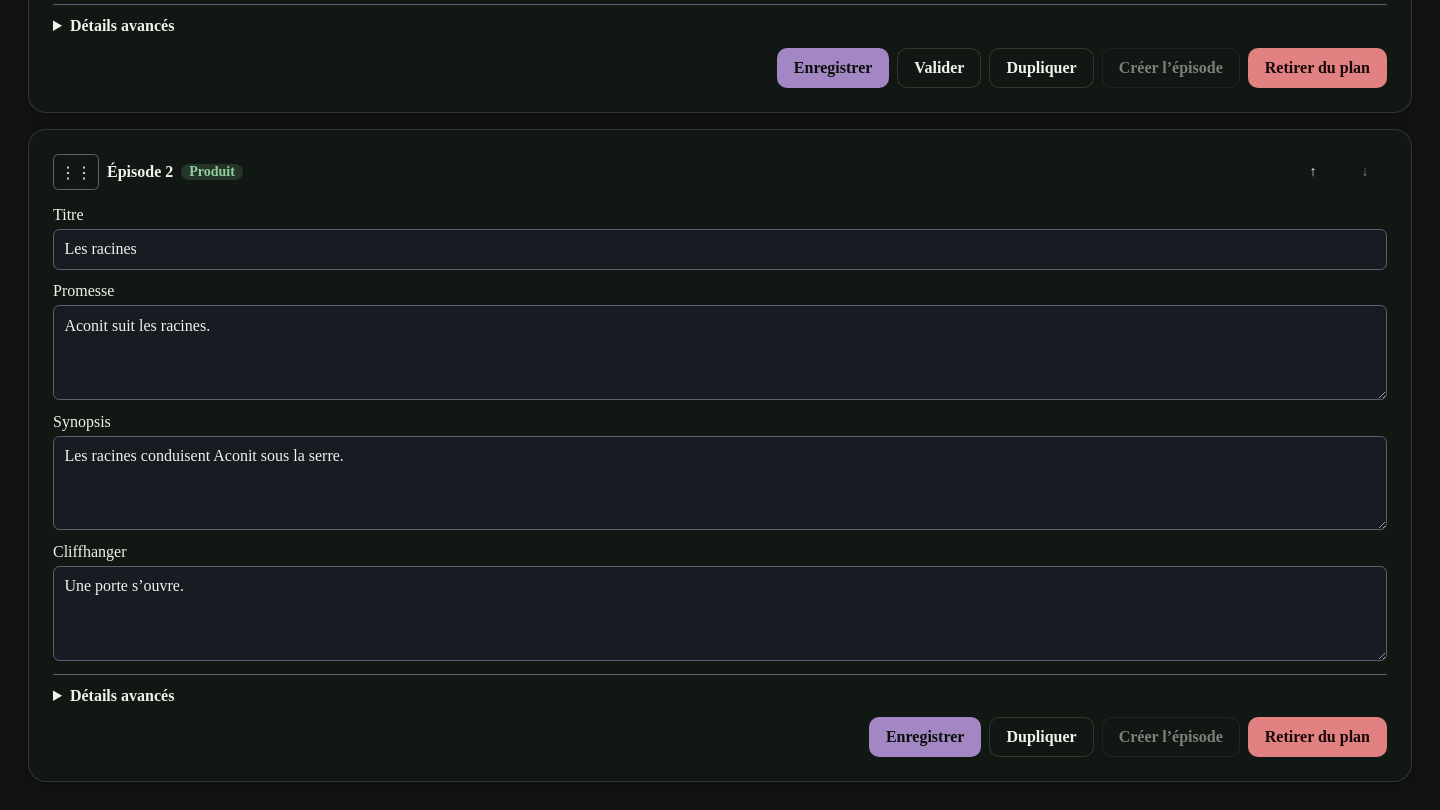
SeasonPlanBoard › requires an explicit keep-files decision for produced items
The image size is (1440, 810).
(page scrolled)
Expected: the field showing "Les racines" is shown, [53,229,1387,270]
Click the 2nd button "Retirer du plan".
click(1317, 737)  # box [1248,717,1387,757]
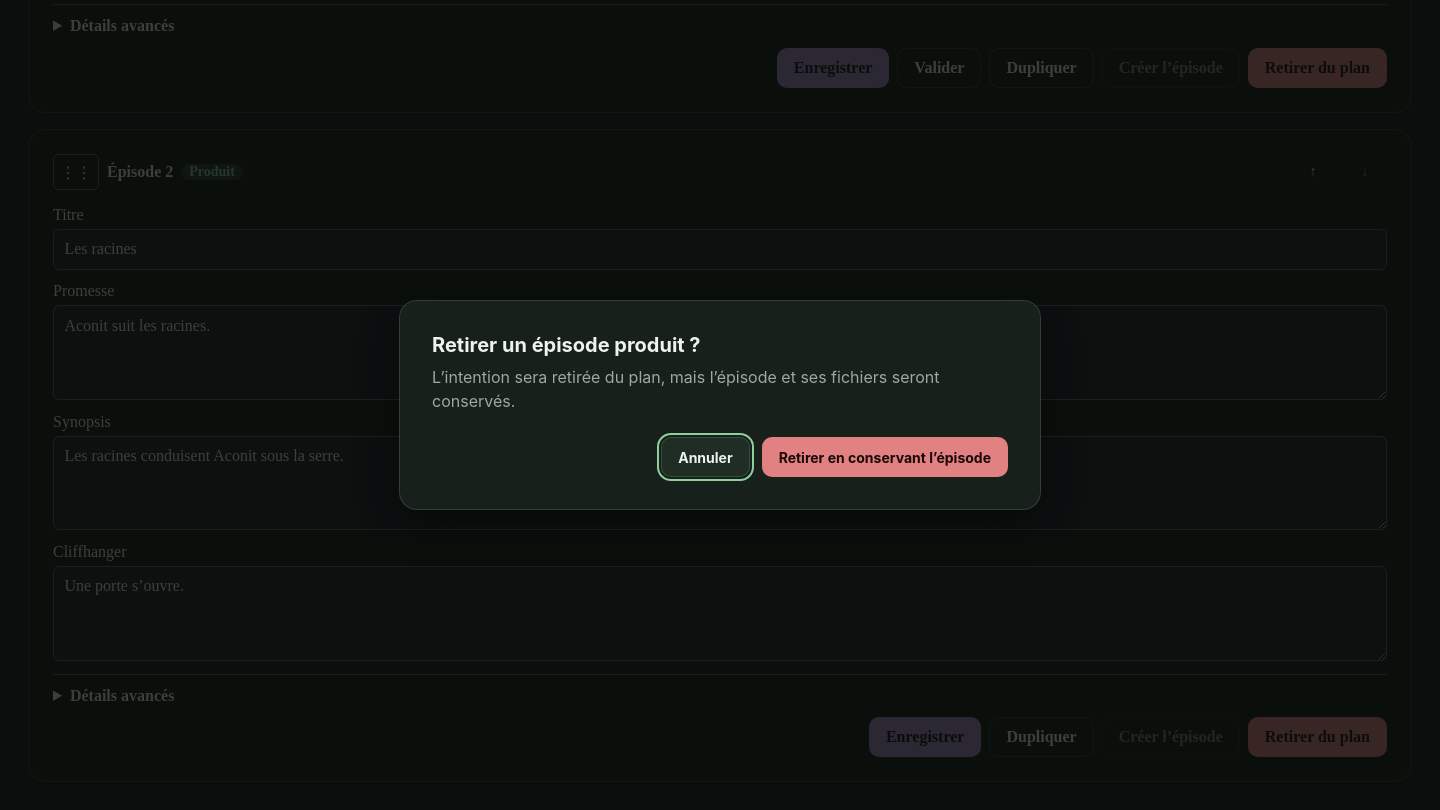
Expected: the dialog "Retirer un épisode produit ?" is shown, [399,300,1041,510]
Click the button "Retirer en conservant l’épisode".
click(885, 457)  # box [762,437,1008,477]
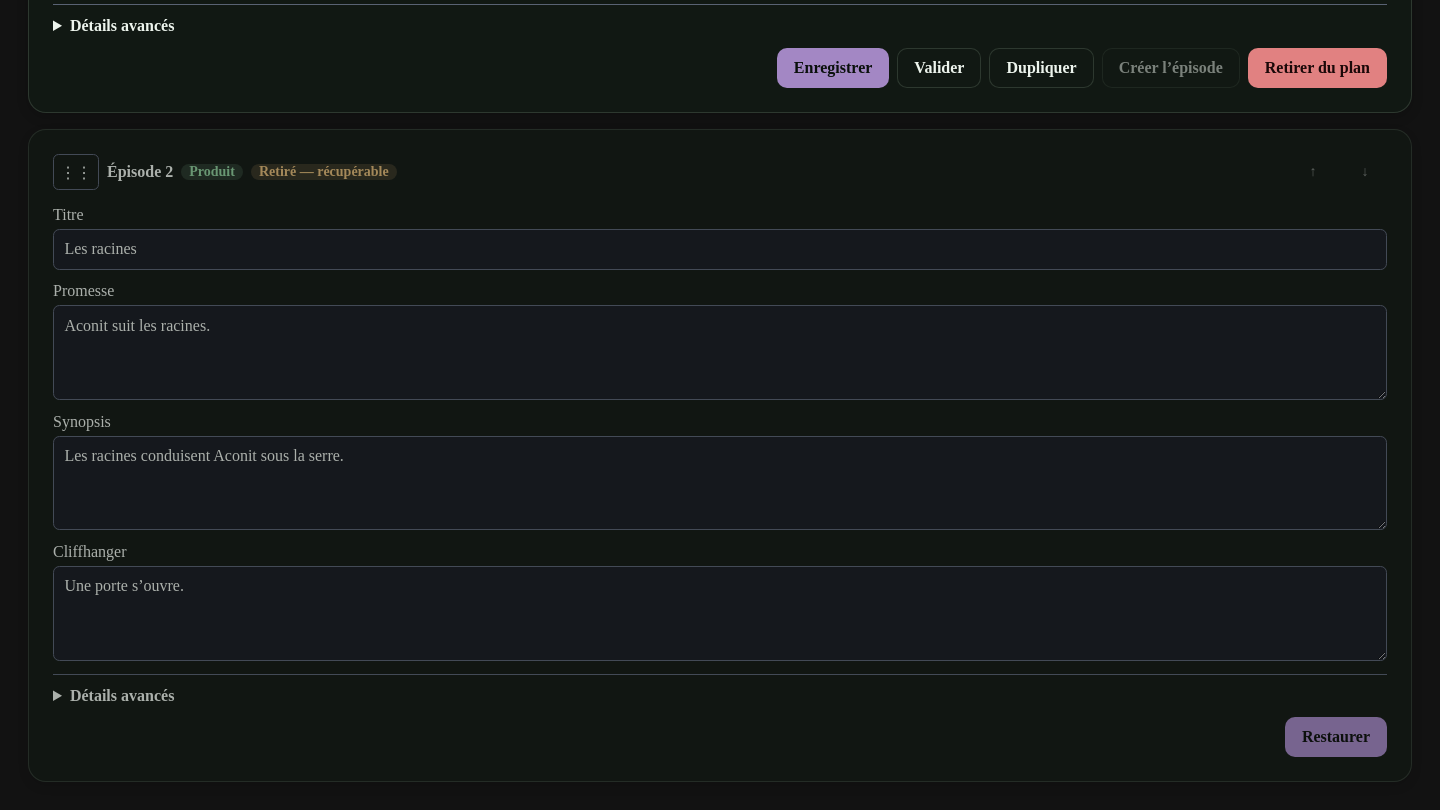
Expected: the button "Restaurer" is shown, [1285,717,1387,757]
